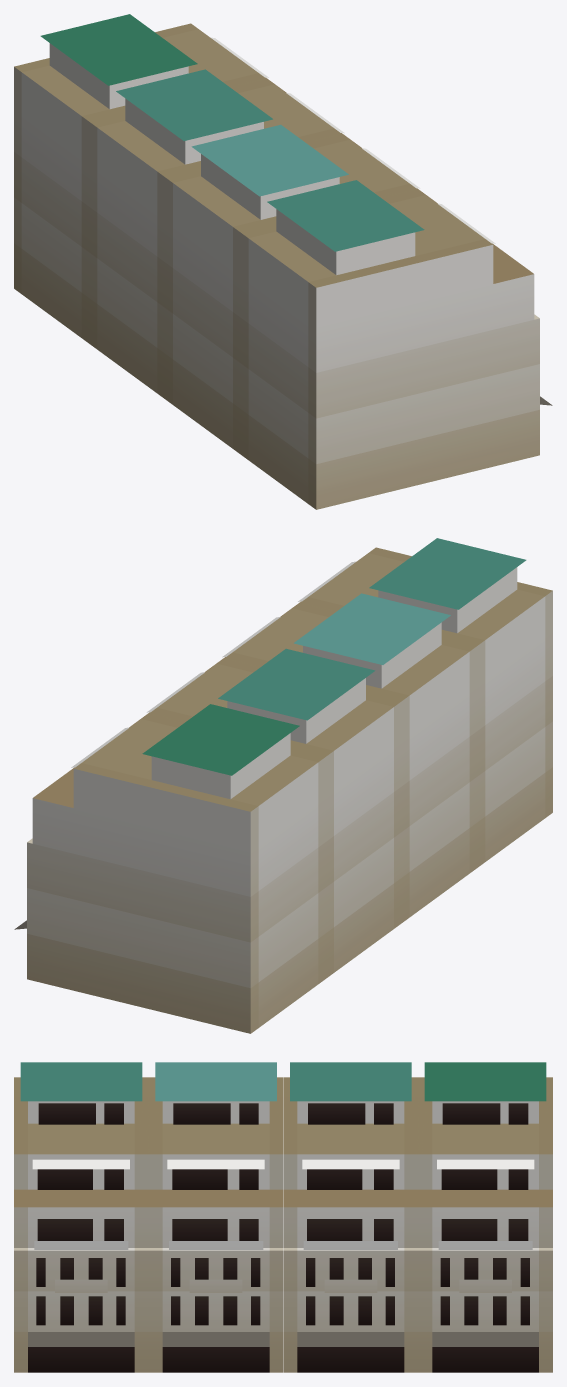
File: SM_City_Building_05.fbx
3 views of the same model, one above another, from view 1: azimuth 30°, elevation 25°; view 2: azimuth 150°, elevation 25°; view 3: azimuth 270°, elevation 25° (orthographic). The views are drawn at different scales.
Parts seen in each view (by area): view 1: SM_City_Building_05; view 2: SM_City_Building_05; view 3: SM_City_Building_05.
Boxes of the visible parts, x1=… form: SM_City_Building_05: x1=14, y1=14, x2=552, y2=509; SM_City_Building_05: x1=14, y1=538, x2=552, y2=1033; SM_City_Building_05: x1=14, y1=1062, x2=552, y2=1372.
Size of the model in its own units: 3.36 by 3.28 by 7.2.
